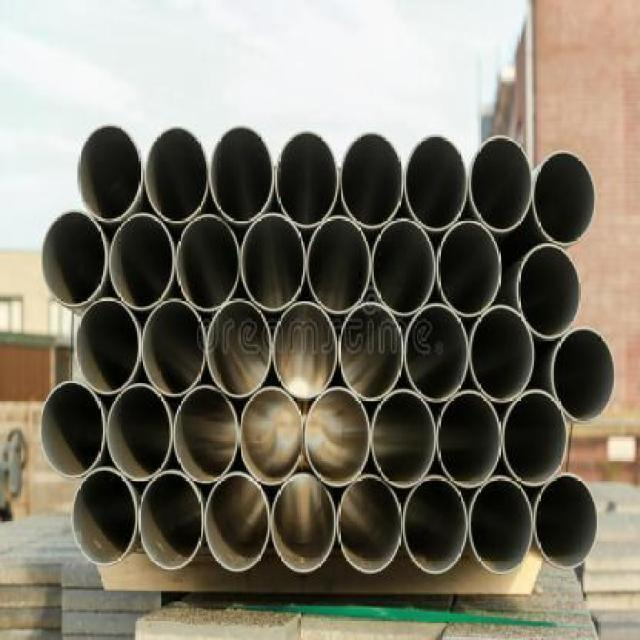pipe: (305, 386, 371, 486), (139, 471, 205, 571), (273, 302, 339, 401), (106, 383, 172, 482), (240, 386, 305, 486), (206, 473, 271, 573), (272, 474, 337, 574), (337, 474, 402, 574), (403, 476, 468, 576), (40, 380, 106, 478), (71, 468, 137, 566), (209, 126, 274, 225), (242, 214, 307, 313), (306, 215, 371, 314), (339, 302, 404, 401), (437, 391, 502, 490), (42, 211, 108, 308), (436, 220, 502, 317), (208, 300, 273, 398), (405, 305, 470, 403), (471, 305, 536, 403), (372, 390, 437, 488), (469, 477, 534, 575), (76, 298, 142, 394), (77, 125, 142, 222), (174, 386, 239, 483), (503, 389, 568, 486), (534, 474, 599, 571), (111, 214, 176, 310), (517, 245, 582, 341), (143, 298, 206, 397), (277, 131, 340, 228), (340, 133, 403, 230), (405, 134, 468, 231), (177, 216, 240, 313), (373, 219, 436, 316), (553, 328, 616, 423), (471, 137, 533, 233), (146, 128, 209, 222), (534, 151, 597, 245)
